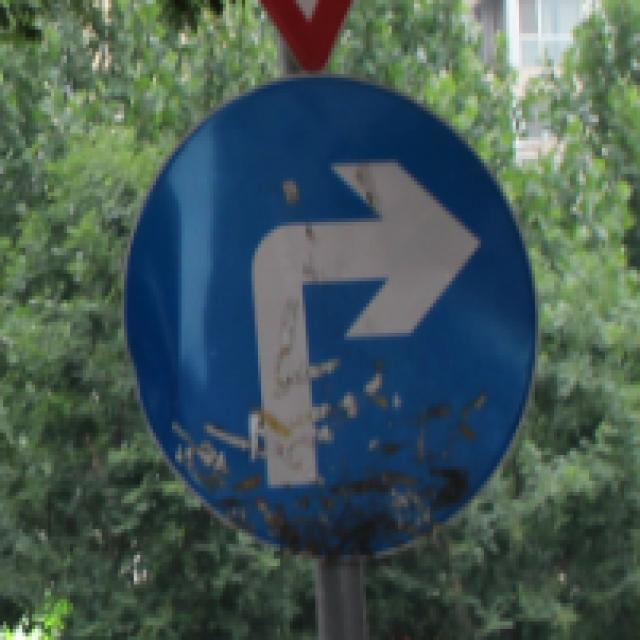Right: (129, 74, 522, 557)
